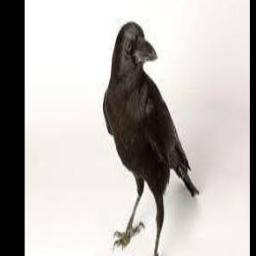Crow: (102, 20, 199, 256)
